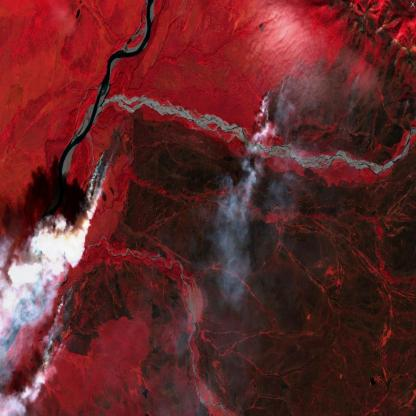fire: (256, 52, 315, 151), (38, 284, 85, 372), (76, 143, 119, 223)
